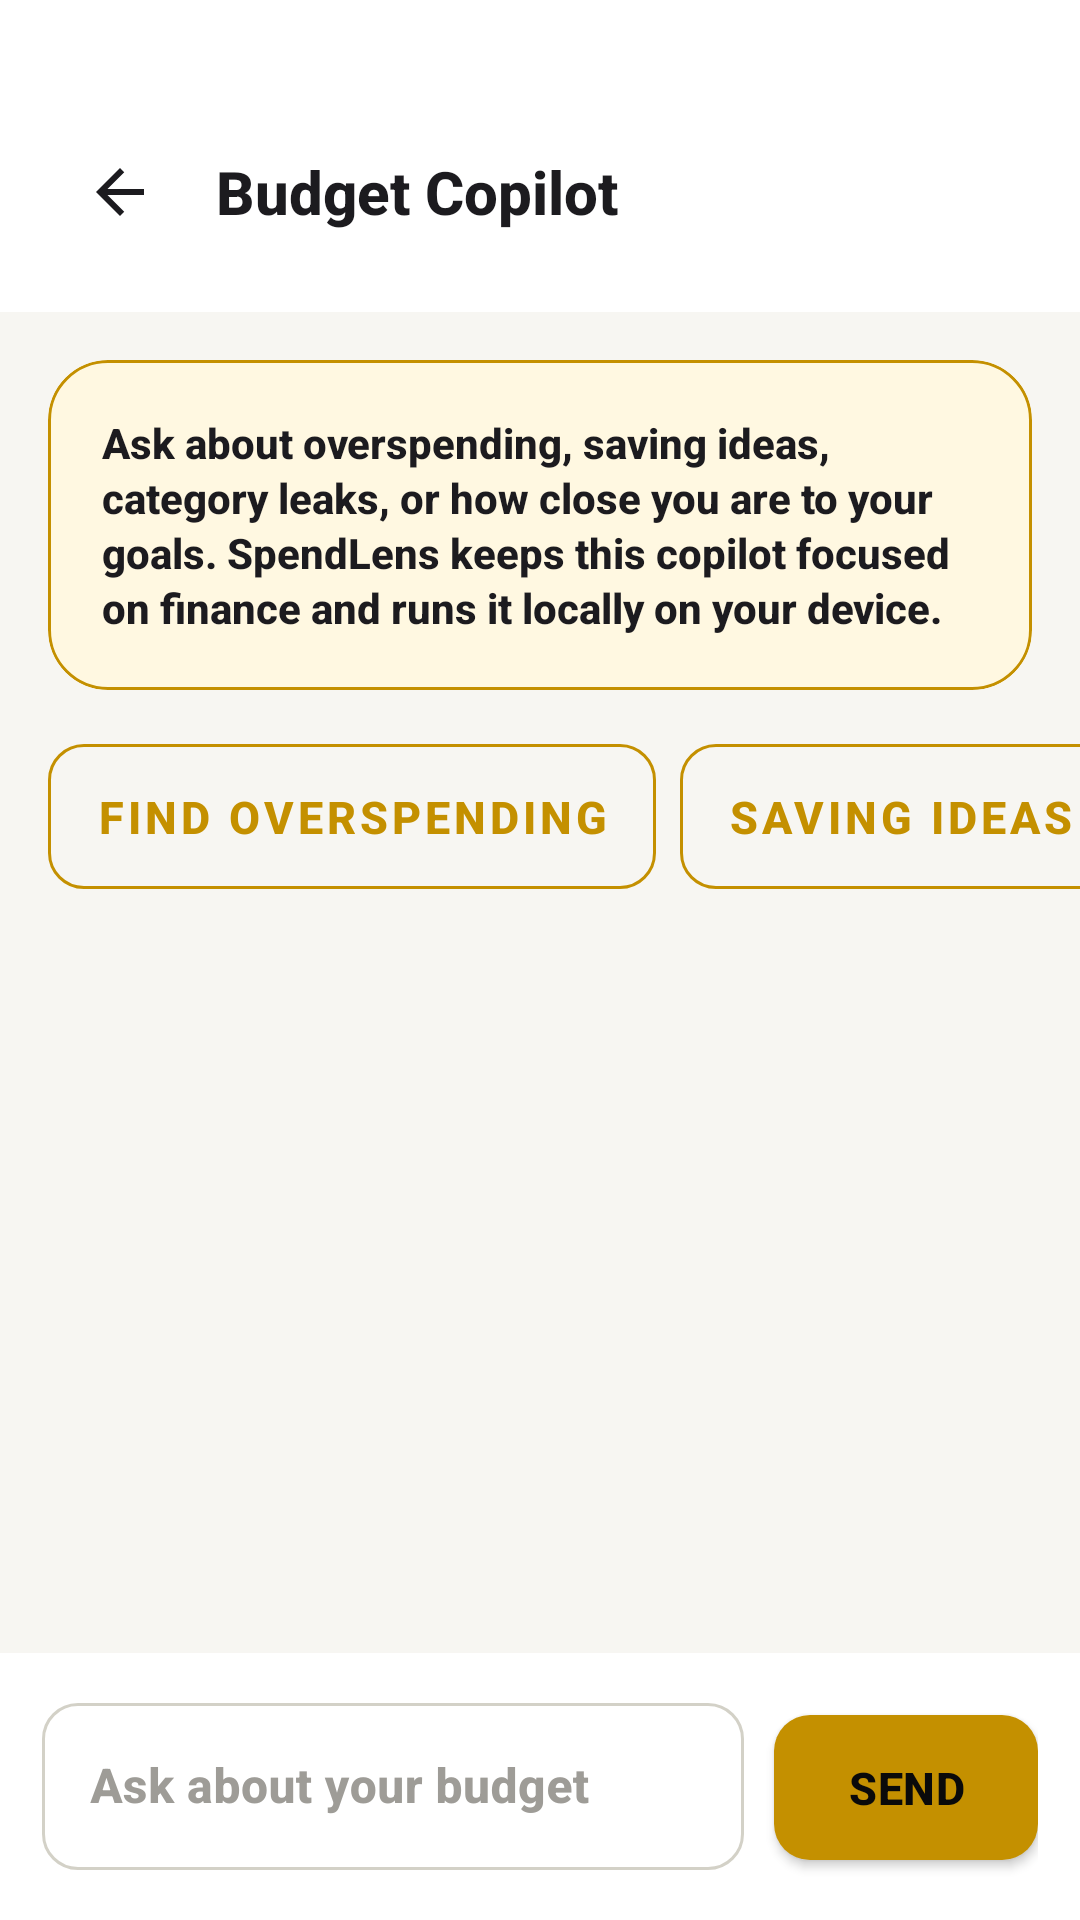

Icon click points for this 1080px×1920px phone screenshot, format (x,y):
back: (120,192)
